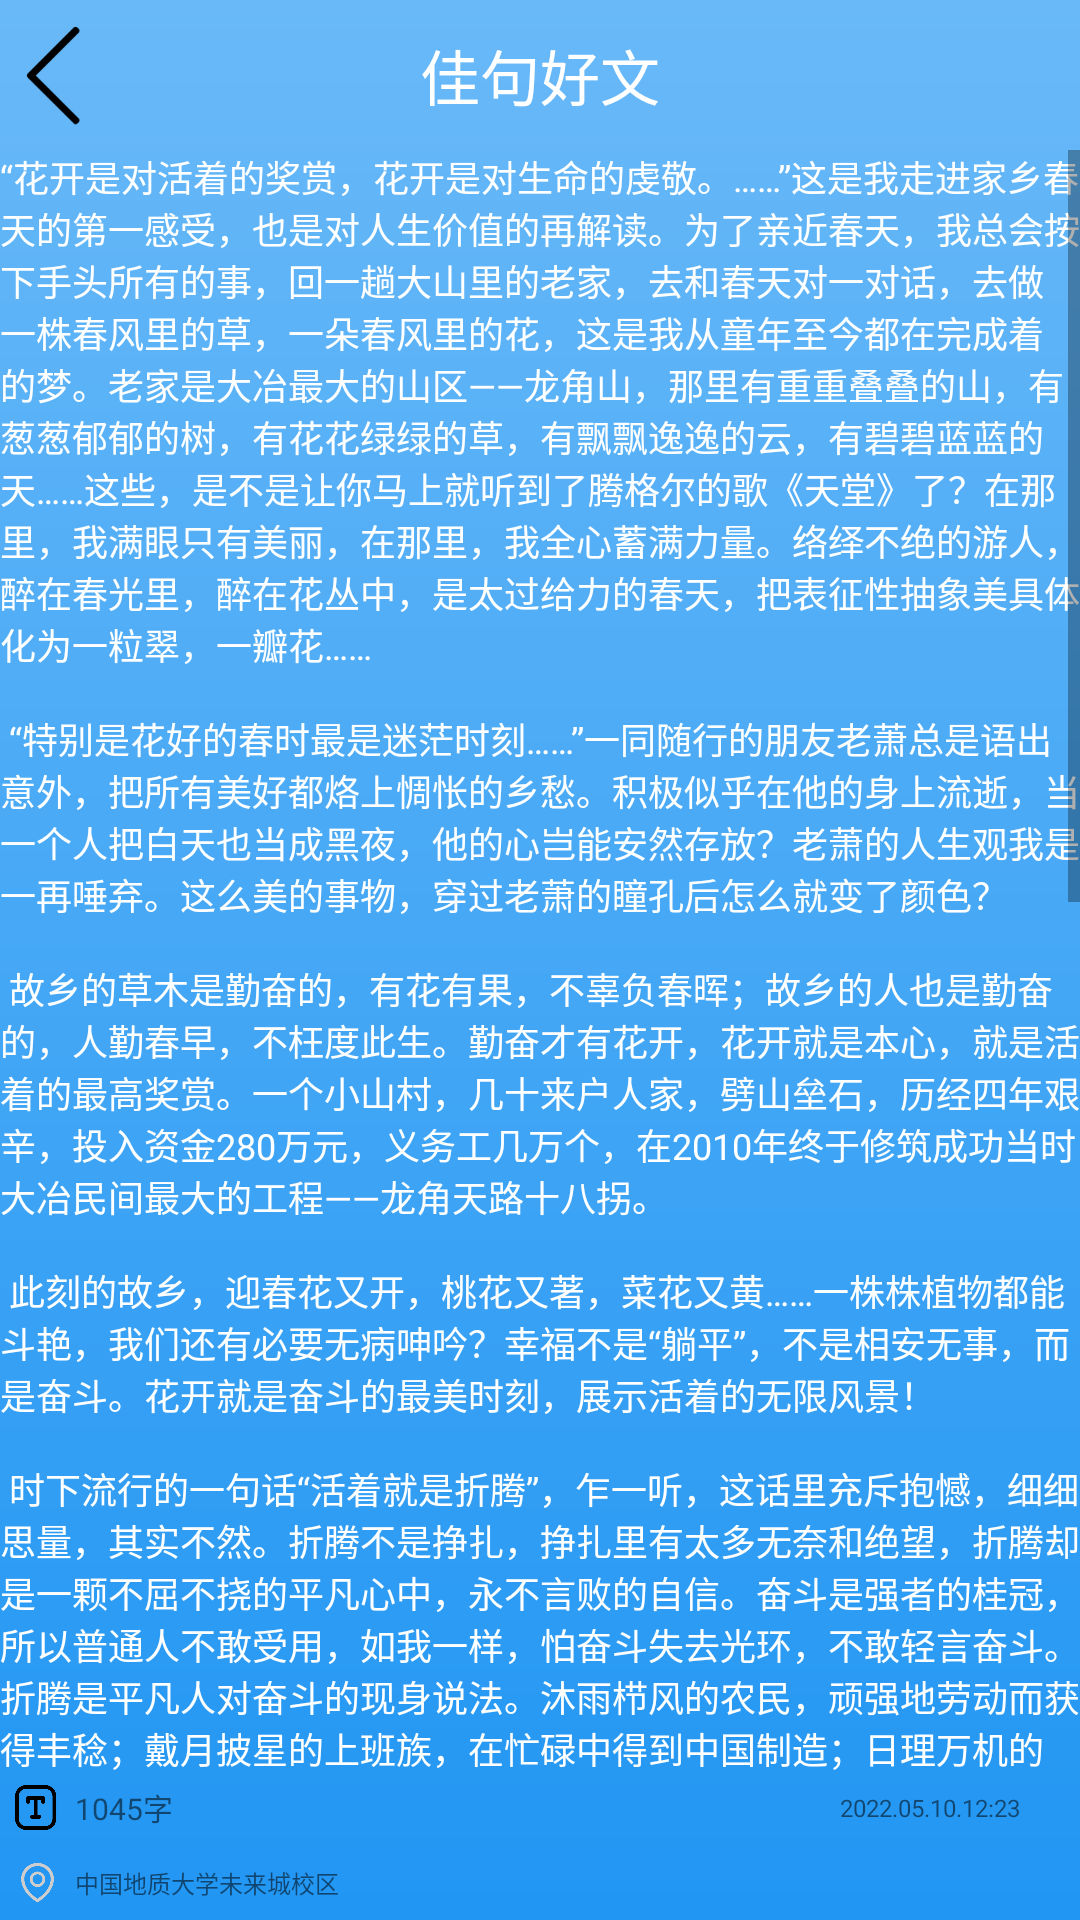

Icon click points for this 1080px×1920px phone screenshot, format point (x, y):
back: point (53, 75)
location: point (37, 1882)
